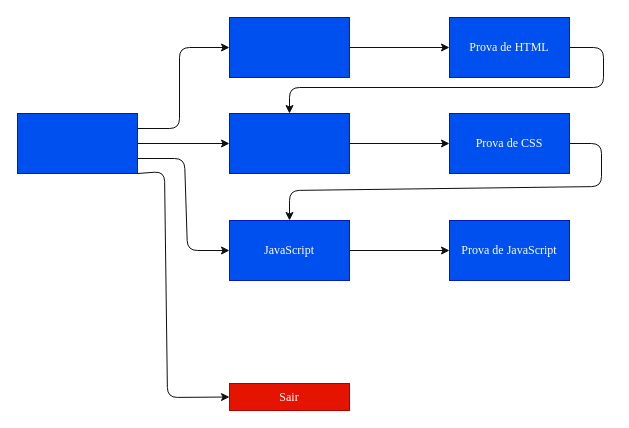
Some shapes in this 629 by 428 pixel diagram are drawn without their labels. Here are the shapes that lost their labels. From the top down, the centre of each, then its label:
(x=289, y=47): HTML
(x=77, y=143): Menu do Usuario
(x=289, y=143): CSS
